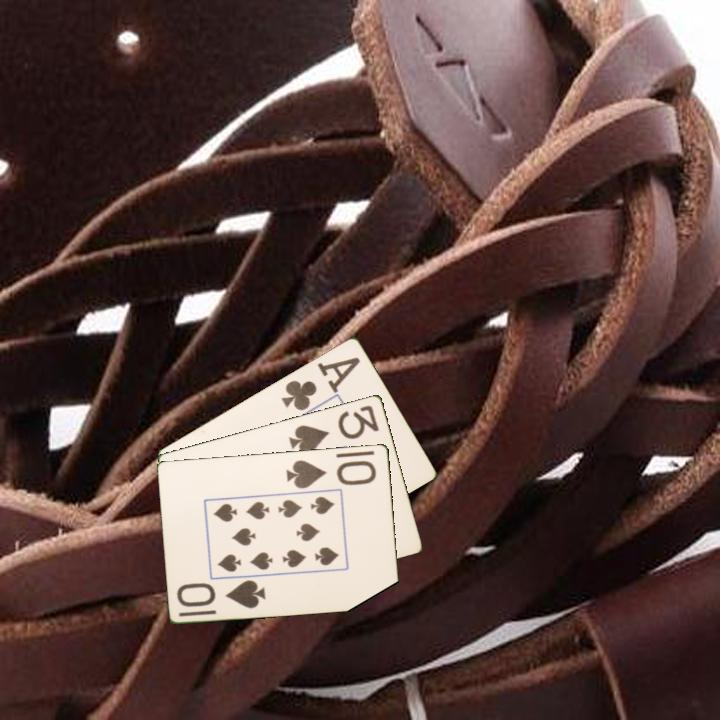10s: (283, 456, 380, 491), (173, 576, 269, 611)
3s: (285, 401, 382, 456)
Ac: (278, 353, 364, 413)
